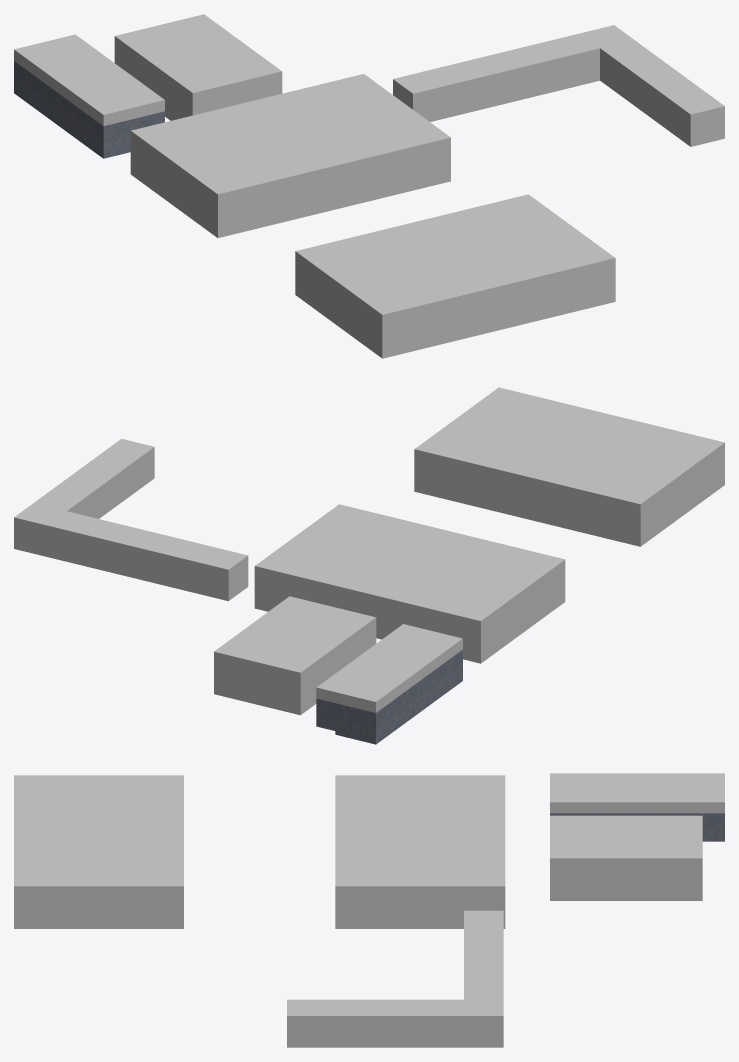
Rendered from demo_room.FBX.
3 renders of one model, top to bottom at view 1: azimuth 30°, elevation 25°; view 2: azimuth 150°, elevation 25°; view 3: azimuth 270°, elevation 25°, orthographic. The views are drawn at different scales.
Visible parts, largest first — view 1: demo_room_gr, demo_room; view 2: demo_room_gr, demo_room; view 3: demo_room_gr, demo_room.
Part boxes in pixels (<box>): demo_room_gr: <box>14,14,615,358</box>; demo_room: <box>393,25,724,146</box>; demo_room_gr: <box>214,387,724,744</box>; demo_room: <box>14,438,248,601</box>; demo_room_gr: <box>14,773,724,928</box>; demo_room: <box>287,910,503,1047</box>.
Size of the model in its own units: 1744 by 150 by 2260.
